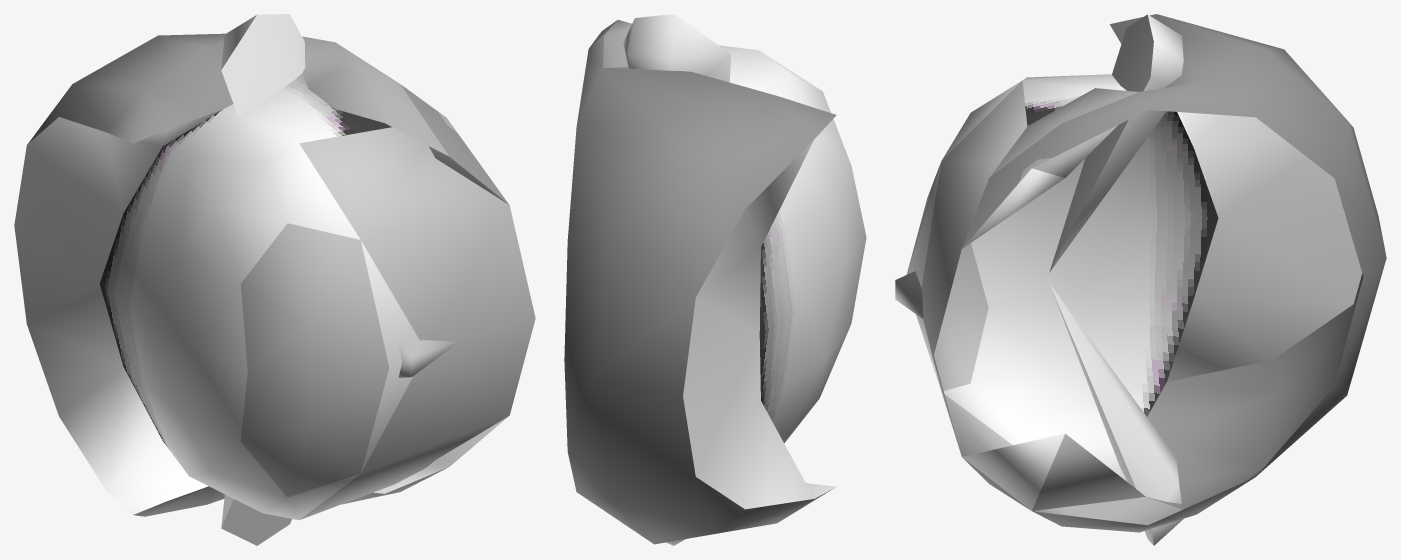
The model's file is girl15b.dae.
The picture shows the model from 3 angles, left to right: view 1: azimuth 30°, elevation 25°; view 2: azimuth 150°, elevation 25°; view 3: azimuth 270°, elevation 25°; orthographic projection.
Parts seen in each view (by area): view 1: vsn_mesh_2_, vsn_mesh_1_, vsn_mesh_0_; view 2: vsn_mesh_2_; view 3: vsn_mesh_2_, vsn_mesh_1_, vsn_mesh_0_.
Boxes of the visible parts, bbox=[...] form: vsn_mesh_2_: bbox=[14, 14, 508, 545]; vsn_mesh_1_: bbox=[299, 127, 535, 519]; vsn_mesh_0_: bbox=[240, 223, 389, 497]; vsn_mesh_2_: bbox=[564, 14, 866, 545]; vsn_mesh_2_: bbox=[907, 14, 1386, 545]; vsn_mesh_1_: bbox=[895, 80, 1027, 456]; vsn_mesh_0_: bbox=[906, 163, 988, 390].
Size of the model in its own units: 16.57 by 26.71 by 22.66.
Materials: 3 (1 with a texture image).
